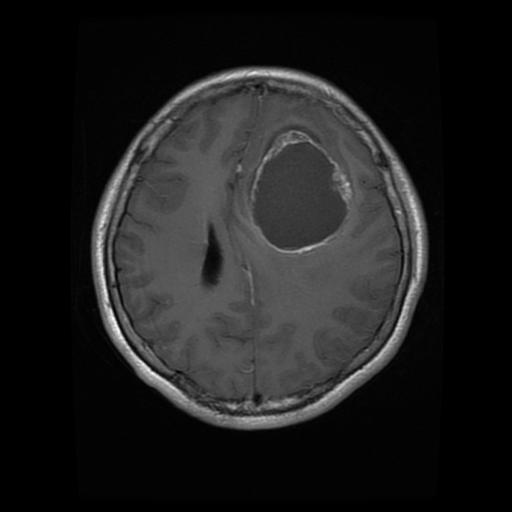Gliomia_tumour: (248, 123, 353, 254)
